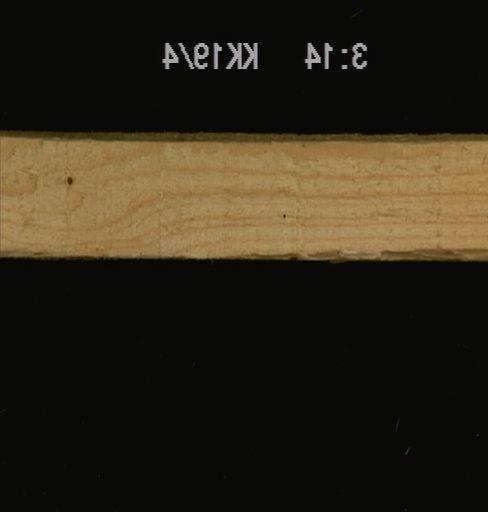small_knot: (64, 171, 75, 187)
